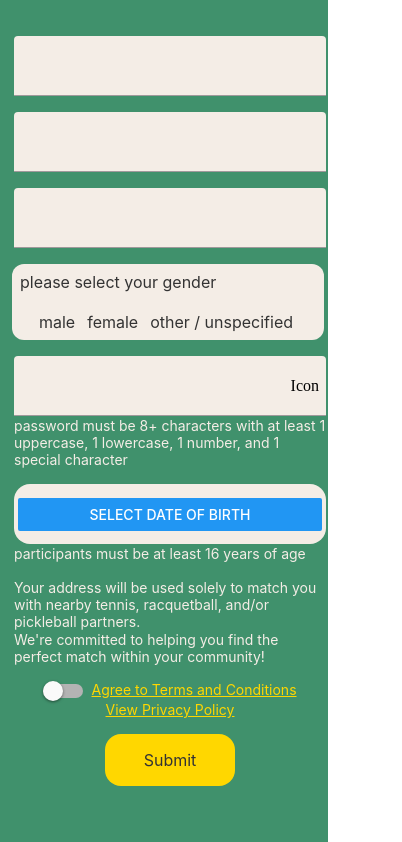
Test: RegisterForm › shows error for first name when blank & submitted
The width and height of the screenshot is (402, 842).
What coordinates should you click on to do the following:
click the text "Submit"
I would click on:
 (170, 760)
Its box is [144,750,196,770].
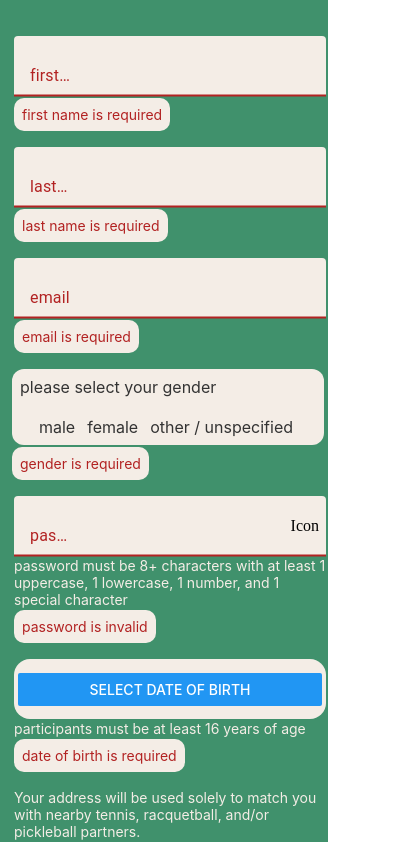
Result: the text "first name is required" is shown at [22,106,162,123]
